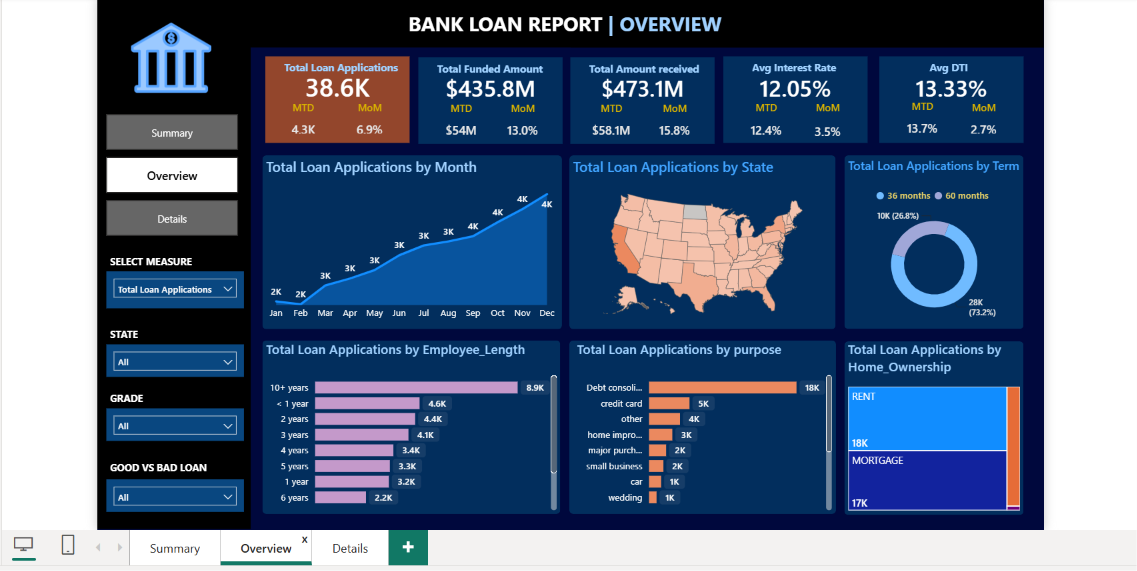

The dashboard page shown, as its layout file describes it:
{"tool":"powerbi","page":{"name":"Overview","canvas":[1280,720],"ordinal":1},"visuals":[{"type":"shape","box":[222.6,213.5,405,235],"z":0},{"type":"shape","box":[0,0,1279.5,68.1],"z":1000},{"type":"shape","box":[0,68.1,207.4,651.1],"z":2000},{"type":"textbox","box":[318,12.1,628.4,56],"z":3000},{"type":"shape","box":[227.1,80.3,195,117],"z":3000,"group":"g1"},{"type":"shape","box":[846.1,80.3,195,117],"z":3000,"group":"g3"},{"type":"shape","box":[1056.9,80.9,195,117],"z":3000,"group":"g4"},{"type":"shape","box":[433.4,81.8,195,117],"z":3000,"group":"g2"},{"type":"shape","box":[639.8,81.8,195,117],"z":3000,"group":"g5"},{"type":"group","id":"g1","title":"Group 1","box":[227.1,80.3,195.3,116.6],"z":4000},{"type":"cardVisual","fields":{"Data":["bank_loan_data.TOtal Loan Applications"]},"box":[227.1,84.8,195.3,71.2],"z":4000,"group":"g1"},{"type":"cardVisual","fields":{"Data":["bank_loan_data.AVG Interest Rate"]},"box":[846.1,84.8,195.3,71.2],"z":4000,"group":"g3"},{"type":"cardVisual","fields":{"Data":["bank_loan_data.AVG DTI"]},"box":[1056.9,85.4,195.3,71.2],"z":4000,"group":"g4"},{"type":"cardVisual","fields":{"Data":["bank_loan_data.Total Funded Amount"]},"box":[433.4,86.3,195.3,71],"z":4000,"group":"g2"},{"type":"cardVisual","fields":{"Data":["bank_loan_data.Total Amount Received"]},"box":[639.8,86.3,195.3,71.2],"z":4000,"group":"g5"},{"type":"textbox","box":[879.4,79.9,174.1,40.9],"z":5000,"group":"g3"},{"type":"textbox","box":[246.8,80.3,174.1,40.9],"z":5000,"group":"g1"},{"type":"textbox","box":[1063.7,80.3,174.1,40.9],"z":5000,"group":"g4"},{"type":"group","id":"g2","title":"Group 1","box":[433.4,81.8,195.3,117],"z":5000},{"type":"textbox","box":[453.1,81.8,174.1,40.9],"z":5000,"group":"g2"},{"type":"textbox","box":[659.5,81.8,174.1,40.9],"z":5000,"group":"g5"},{"type":"group","id":"g3","title":"Group 1","box":[846.1,79.9,207.4,122.7],"z":6000},{"type":"cardVisual","title":"MTD","fields":{"Data":["bank_loan_data.MTD Avg Int Rate"]},"box":[865.8,139,75.7,60.6],"z":6000,"group":"g3"},{"type":"cardVisual","title":"MTD","fields":{"Data":["bank_loan_data.MTD Avg DTI"]},"box":[1075.8,139,78.7,57.5],"z":6000,"group":"g4"},{"type":"cardVisual","title":"MTD","fields":{"Data":["bank_loan_data.MTD Loan Applications"]},"box":[246.8,139.4,62.1,57.5],"z":6000,"group":"g1"},{"type":"cardVisual","title":"MTD","fields":{"Data":["bank_loan_data.MTD Funded Amount"]},"box":[453.7,141.2,75.7,57.5],"z":6000,"group":"g2"},{"type":"cardVisual","title":"MTD","fields":{"Data":["bank_loan_data.MTD Amount Received"]},"box":[655.6,141.2,78.7,57.5],"z":6000,"group":"g5"},{"type":"group","id":"g4","title":"Group 1","box":[1056.9,80.3,195.3,116.6],"z":7000},{"type":"cardVisual","title":"MoM","fields":{"Data":["bank_loan_data.MoM Avg Int Rate"]},"box":[943,139,87.8,63.6],"z":7000,"group":"g3"},{"type":"cardVisual","title":"MoM","fields":{"Data":["bank_loan_data.MOM Loan Applications"]},"box":[324,139.4,87.8,57.5],"z":7000,"group":"g1"},{"type":"cardVisual","title":"MoM","fields":{"Data":["bank_loan_data.MoM Avg DTI"]},"box":[1153.8,139.9,87.8,57.5],"z":7000,"group":"g4"},{"type":"cardVisual","title":"MoM","fields":{"Data":["bank_loan_data.MoM Total Funded Amount"]},"box":[530.3,140.9,87.8,57.5],"z":7000,"group":"g2"},{"type":"cardVisual","title":"MoM","fields":{"Data":["bank_loan_data.MoM Total Amount Received"]},"box":[736.7,140.9,87.8,57.5],"z":7000,"group":"g5"},{"type":"group","id":"g5","title":"Group 1","box":[639.8,81.8,195.3,117],"z":8000},{"type":"slicer","fields":{"Values":["bank_loan_data.address_state"]},"box":[12.8,469.3,186.2,43.9],"z":9000},{"type":"slicer","fields":{"Values":["bank_loan_data.Good vs Bad Loan"]},"box":[12.8,651.7,186.2,43.9],"z":10000},{"type":"slicer","fields":{"Values":["bank_loan_data.grade"]},"box":[12.8,555.8,186.2,43.9],"z":11000},{"type":"textbox","box":[12.8,527.4,69.7,28.8],"z":12000},{"type":"textbox","box":[12.8,440.9,69.7,28.8],"z":13000},{"type":"areaChart","fields":{"Category":["Date Table.Month"],"Y":["bank_loan_data.Total Loan Applications"]},"box":[222.6,216.6,402.8,228.6],"z":14000},{"type":"slicer","fields":{"Values":["New Measure.New Measure"]},"box":[12.6,371,186.2,50],"z":15000},{"type":"textbox","box":[12.6,342.2,124.2,28.8],"z":16000},{"type":"shape","box":[637.5,213.4,360,235],"z":17000},{"type":"shapeMap","fields":{"Category":["bank_loan_data.address_state"],"Value":["bank_loan_data.Total Loan Applications"]},"box":[637.5,216.5,360.4,225.6],"z":18000},{"type":"shape","box":[1010,213.5,242.3,234.7],"z":19000},{"type":"donutChart","fields":{"Category":["bank_loan_data.term"],"Y":["bank_loan_data.Total Loan Applications"]},"box":[1010,216.5,242.3,228.6],"z":20000},{"type":"shape","box":[222.6,463.3,402.8,234.7],"z":21000},{"type":"shape","box":[637.5,463.3,360.4,234.7],"z":22000},{"type":"shape","box":[1010,464.9,242.3,234.7],"z":23000},{"type":"barChart","fields":{"Category":["bank_loan_data.emp_length"],"Y":["bank_loan_data.Total Loan Applications"]},"box":[222.6,463.3,402.8,234.7],"z":24000},{"type":"barChart","fields":{"Category":["bank_loan_data.purpose"],"Y":["bank_loan_data.Total Loan Applications"]},"box":[643.5,463.3,354.3,234.7],"z":25000},{"type":"treemap","fields":{"Group":["bank_loan_data.home_ownership"],"Values":["bank_loan_data.Total Loan Applications"]},"box":[1010,463.3,242.3,234.7],"z":26000},{"type":"textbox","box":[12.6,620.8,174.1,30.3],"z":27000},{"type":"pageNavigator","box":[12.1,157.5,178.7,165],"z":28000},{"type":"image","box":[36.3,25.7,126.7,112.1],"z":29000}]}

Visuals, with their boxes on the page's 1280x720 design canvas (x1, y1, x2, y2). These are canvas units, not pixel positions in the 1137x571 screenshot, which may show the page scaled, cropped or inside an application window:
shape: x1=223, y1=214, x2=628, y2=448
shape: x1=0, y1=0, x2=1280, y2=68
shape: x1=0, y1=68, x2=207, y2=719
textbox: x1=318, y1=12, x2=946, y2=68
shape: x1=227, y1=80, x2=422, y2=197
shape: x1=846, y1=80, x2=1041, y2=197
shape: x1=1057, y1=81, x2=1252, y2=198
shape: x1=433, y1=82, x2=628, y2=199
shape: x1=640, y1=82, x2=835, y2=199
"Group 1" group: x1=227, y1=80, x2=422, y2=197
cardVisual - bank_loan_data.TOtal Loan Applications: x1=227, y1=85, x2=422, y2=156
cardVisual - bank_loan_data.AVG Interest Rate: x1=846, y1=85, x2=1041, y2=156
cardVisual - bank_loan_data.AVG DTI: x1=1057, y1=85, x2=1252, y2=157
cardVisual - bank_loan_data.Total Funded Amount: x1=433, y1=86, x2=629, y2=157
cardVisual - bank_loan_data.Total Amount Received: x1=640, y1=86, x2=835, y2=158
textbox: x1=879, y1=80, x2=1054, y2=121
textbox: x1=247, y1=80, x2=421, y2=121
textbox: x1=1064, y1=80, x2=1238, y2=121
"Group 1" group: x1=433, y1=82, x2=629, y2=199
textbox: x1=453, y1=82, x2=627, y2=123
textbox: x1=660, y1=82, x2=834, y2=123
"Group 1" group: x1=846, y1=80, x2=1054, y2=203
"MTD" cardVisual: x1=866, y1=139, x2=942, y2=200
"MTD" cardVisual: x1=1076, y1=139, x2=1154, y2=196
"MTD" cardVisual: x1=247, y1=139, x2=309, y2=197
"MTD" cardVisual: x1=454, y1=141, x2=529, y2=199
"MTD" cardVisual: x1=656, y1=141, x2=734, y2=199
"Group 1" group: x1=1057, y1=80, x2=1252, y2=197
"MoM" cardVisual: x1=943, y1=139, x2=1031, y2=203
"MoM" cardVisual: x1=324, y1=139, x2=412, y2=197
"MoM" cardVisual: x1=1154, y1=140, x2=1242, y2=197
"MoM" cardVisual: x1=530, y1=141, x2=618, y2=198
"MoM" cardVisual: x1=737, y1=141, x2=824, y2=198
"Group 1" group: x1=640, y1=82, x2=835, y2=199
slicer - bank_loan_data.address_state: x1=13, y1=469, x2=199, y2=513
slicer - bank_loan_data.Good vs Bad Loan: x1=13, y1=652, x2=199, y2=696
slicer - bank_loan_data.grade: x1=13, y1=556, x2=199, y2=600
textbox: x1=13, y1=527, x2=82, y2=556
textbox: x1=13, y1=441, x2=82, y2=470
areaChart - Date Table.Month x bank_loan_data.Total Loan Applications: x1=223, y1=217, x2=625, y2=445
slicer - New Measure.New Measure: x1=13, y1=371, x2=199, y2=421
textbox: x1=13, y1=342, x2=137, y2=371
shape: x1=638, y1=213, x2=998, y2=448
shapeMap - bank_loan_data.address_state x bank_loan_data.Total Loan Applications: x1=638, y1=216, x2=998, y2=442
shape: x1=1010, y1=214, x2=1252, y2=448
donutChart - bank_loan_data.term x bank_loan_data.Total Loan Applications: x1=1010, y1=216, x2=1252, y2=445
shape: x1=223, y1=463, x2=625, y2=698
shape: x1=638, y1=463, x2=998, y2=698
shape: x1=1010, y1=465, x2=1252, y2=700
barChart - bank_loan_data.emp_length x bank_loan_data.Total Loan Applications: x1=223, y1=463, x2=625, y2=698
barChart - bank_loan_data.purpose x bank_loan_data.Total Loan Applications: x1=644, y1=463, x2=998, y2=698
treemap - bank_loan_data.home_ownership x bank_loan_data.Total Loan Applications: x1=1010, y1=463, x2=1252, y2=698
textbox: x1=13, y1=621, x2=187, y2=651
pageNavigator: x1=12, y1=158, x2=191, y2=322
image: x1=36, y1=26, x2=163, y2=138
